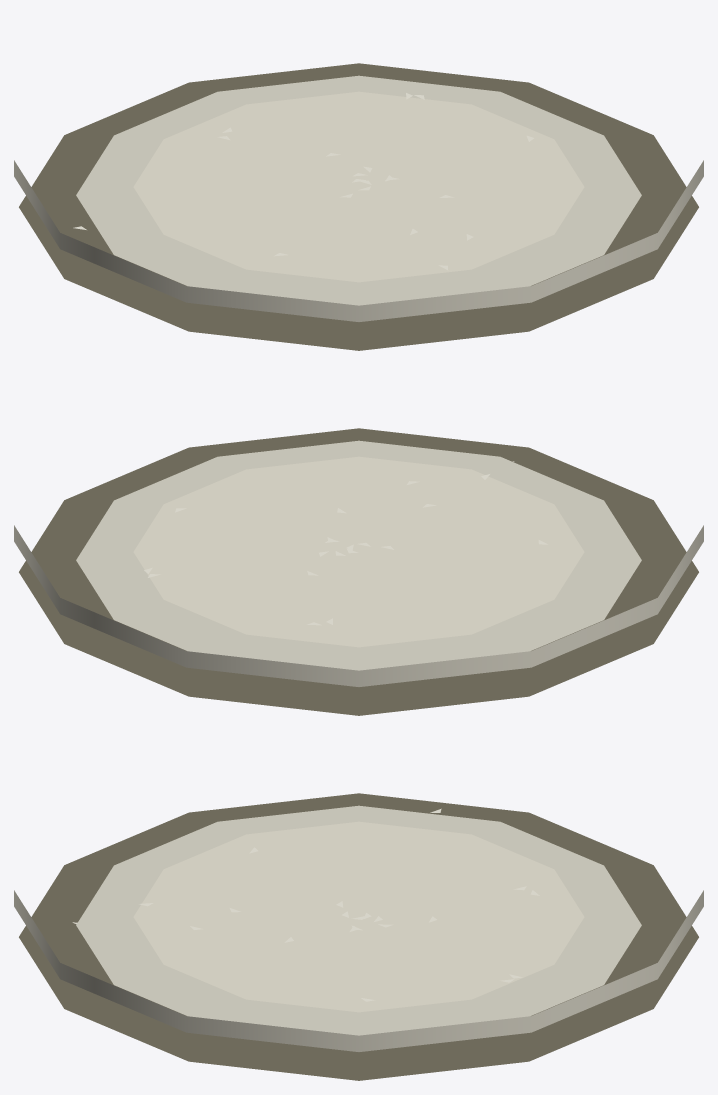
The model's file is MatChao.glb.
The picture shows the model from 3 angles, top to bottom: view 1: azimuth 30°, elevation 25°; view 2: azimuth 150°, elevation 25°; view 3: azimuth 270°, elevation 25°; orthographic projection.
Visible parts, largest first — view 1: MatChao_ChaoLoang, MatChao_DayNoi_MoQuaNuoc, MatChao_NuocChao_RiaTrong, MatChao_VanhKho, MatChao_HatGao; view 2: MatChao_ChaoLoang, MatChao_DayNoi_MoQuaNuoc, MatChao_NuocChao_RiaTrong, MatChao_VanhKho, MatChao_HatGao; view 3: MatChao_ChaoLoang, MatChao_DayNoi_MoQuaNuoc, MatChao_NuocChao_RiaTrong, MatChao_VanhKho, MatChao_HatGao.
Boxes of the visible parts, x1,y1,x2,y2 form: MatChao_ChaoLoang: [133, 91, 584, 282]; MatChao_DayNoi_MoQuaNuoc: [19, 63, 698, 350]; MatChao_NuocChao_RiaTrong: [76, 75, 641, 305]; MatChao_VanhKho: [14, 160, 703, 321]; MatChao_HatGao: [73, 93, 533, 270]; MatChao_ChaoLoang: [133, 456, 584, 647]; MatChao_DayNoi_MoQuaNuoc: [19, 428, 698, 715]; MatChao_NuocChao_RiaTrong: [76, 440, 641, 670]; MatChao_VanhKho: [14, 525, 703, 686]; MatChao_HatGao: [144, 461, 547, 625]; MatChao_ChaoLoang: [133, 821, 584, 1012]; MatChao_DayNoi_MoQuaNuoc: [19, 793, 698, 1080]; MatChao_NuocChao_RiaTrong: [76, 805, 641, 1035]; MatChao_VanhKho: [14, 890, 703, 1051]; MatChao_HatGao: [72, 808, 539, 1001].
Bounding box in the file's own units: 0.2647 × 0.02 × 0.2647.
